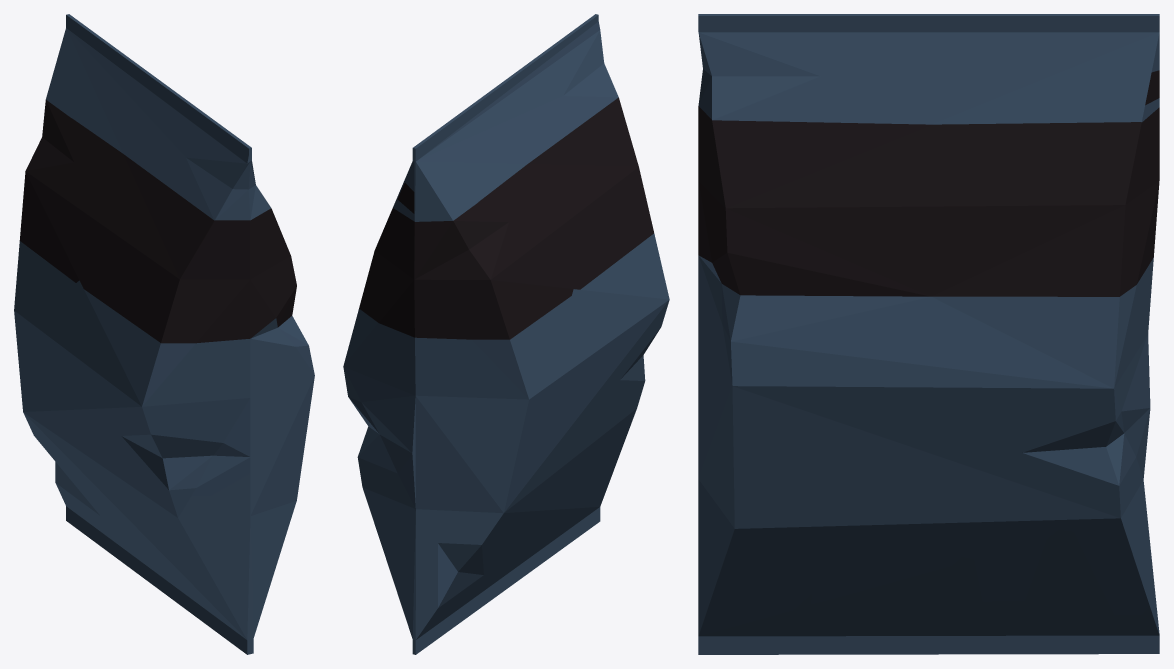
File: chips3.fbx
3 views of the same model, side by side, from view 1: azimuth 30°, elevation 25°; view 2: azimuth 150°, elevation 25°; view 3: azimuth 270°, elevation 25° (orthographic). The views are drawn at different scales.
Parts seen in each view (by area): view 1: group478861069; view 2: group478861069; view 3: group478861069.
Part boxes in pixels (x1=…): group478861069: x1=14, y1=14, x2=314, y2=654; group478861069: x1=343, y1=14, x2=669, y2=654; group478861069: x1=698, y1=14, x2=1159, y2=654.
Size of the model in its own units: 146 by 393 by 257.
